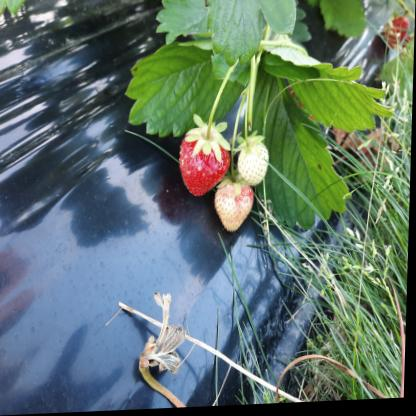ripe: (180, 130, 232, 197)
unripe: (219, 186, 253, 232), (241, 144, 267, 185)
